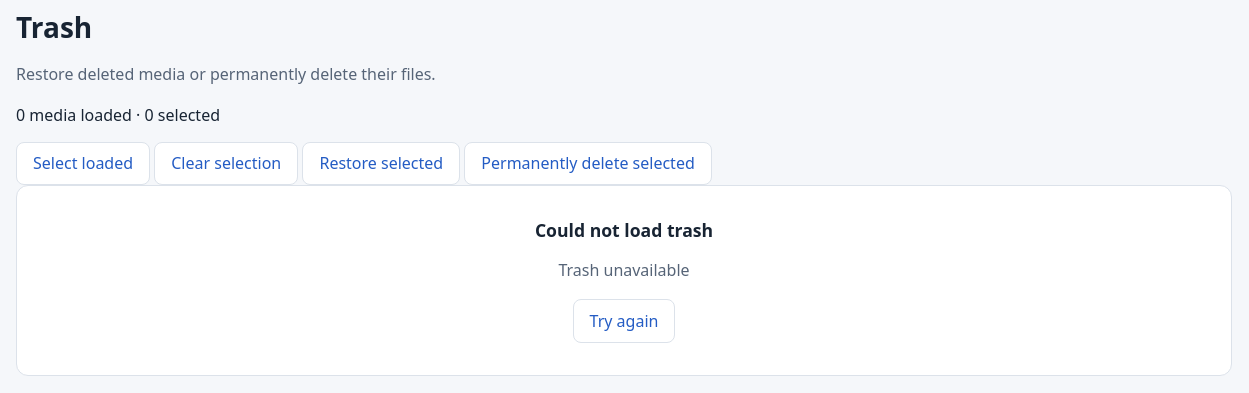
retries initial failures through the trash query
Expected: the message shows "Trash unavailable", top-left (558, 259), bottom-right (690, 281)
Click the button "Try again". click: click(624, 321)
box: top-left (573, 299), bottom-right (675, 343)
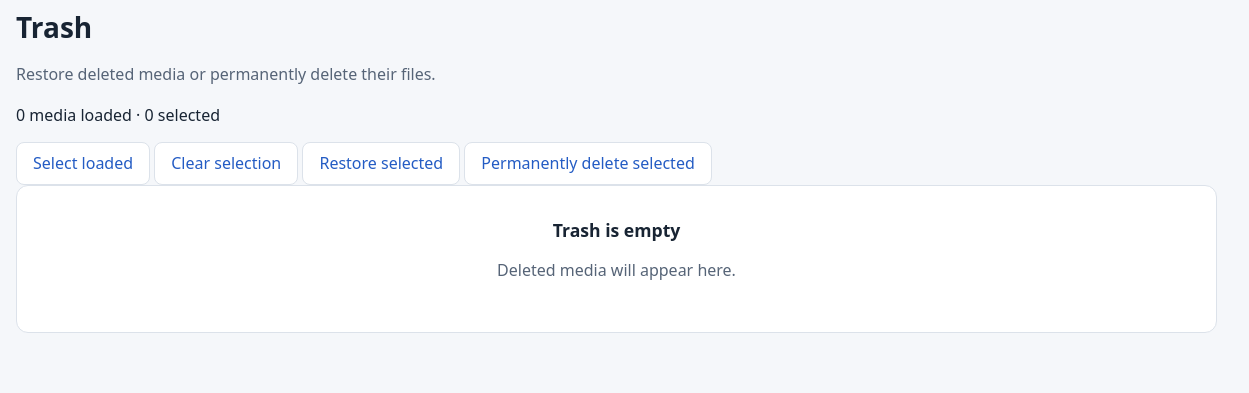
Expected: the heading "Trash is empty" is shown, top-left (553, 218), bottom-right (680, 242)
